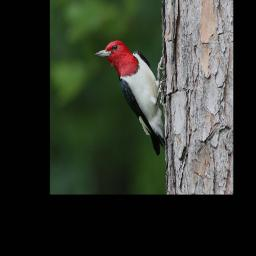Woodpecker: (92, 40, 169, 155)
